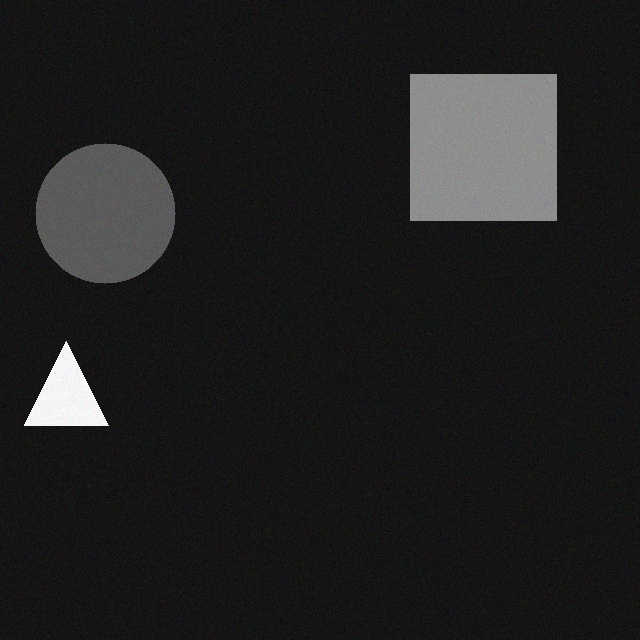circle: (34, 153, 174, 293)
square: (409, 84, 555, 230)
triangle: (23, 351, 107, 435)
